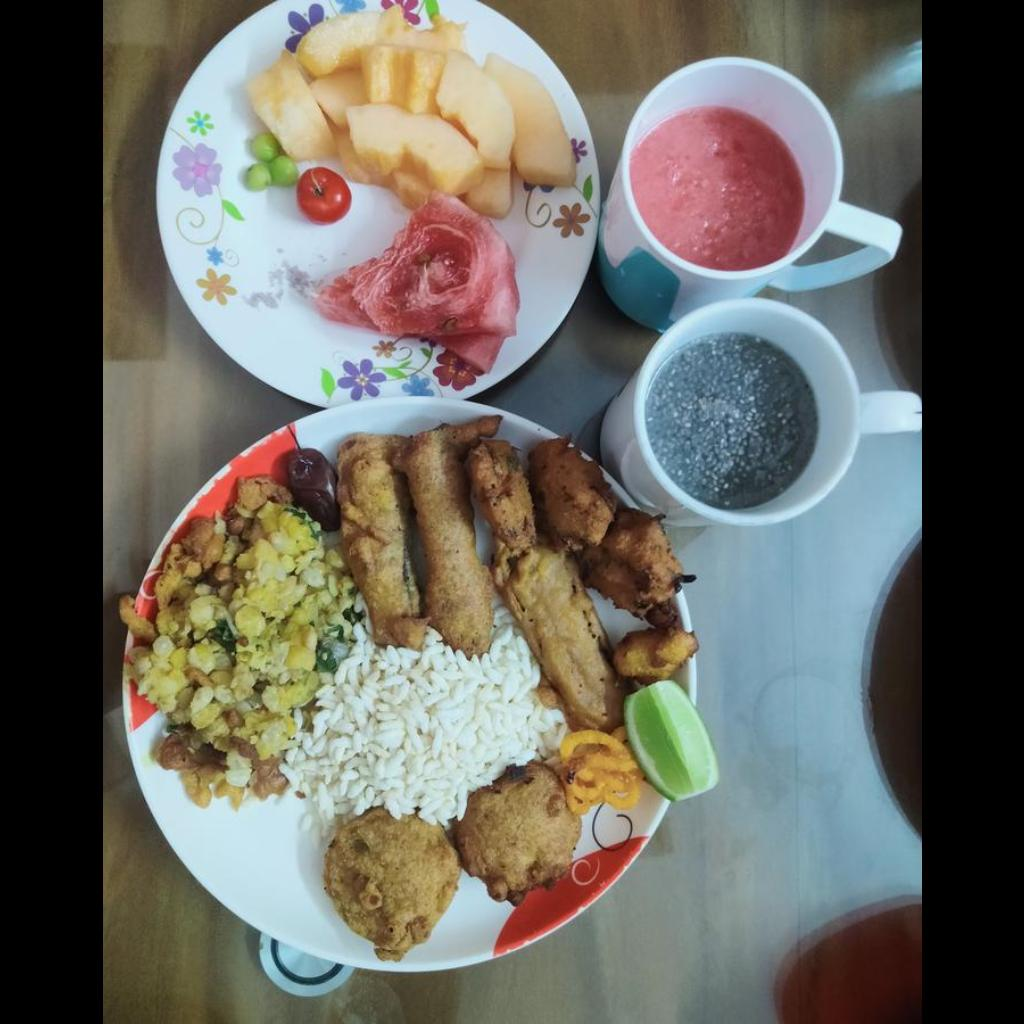beguni: (343, 418, 616, 730)
chop-alu: (328, 770, 584, 950)
daal: (129, 480, 356, 790)
juice: (646, 336, 815, 511), (641, 107, 792, 271)
lemon: (633, 678, 719, 802)
peyaju: (540, 445, 680, 611)
puffed-rice: (283, 625, 556, 825)
watermelon: (246, 4, 575, 212), (306, 218, 509, 368)
